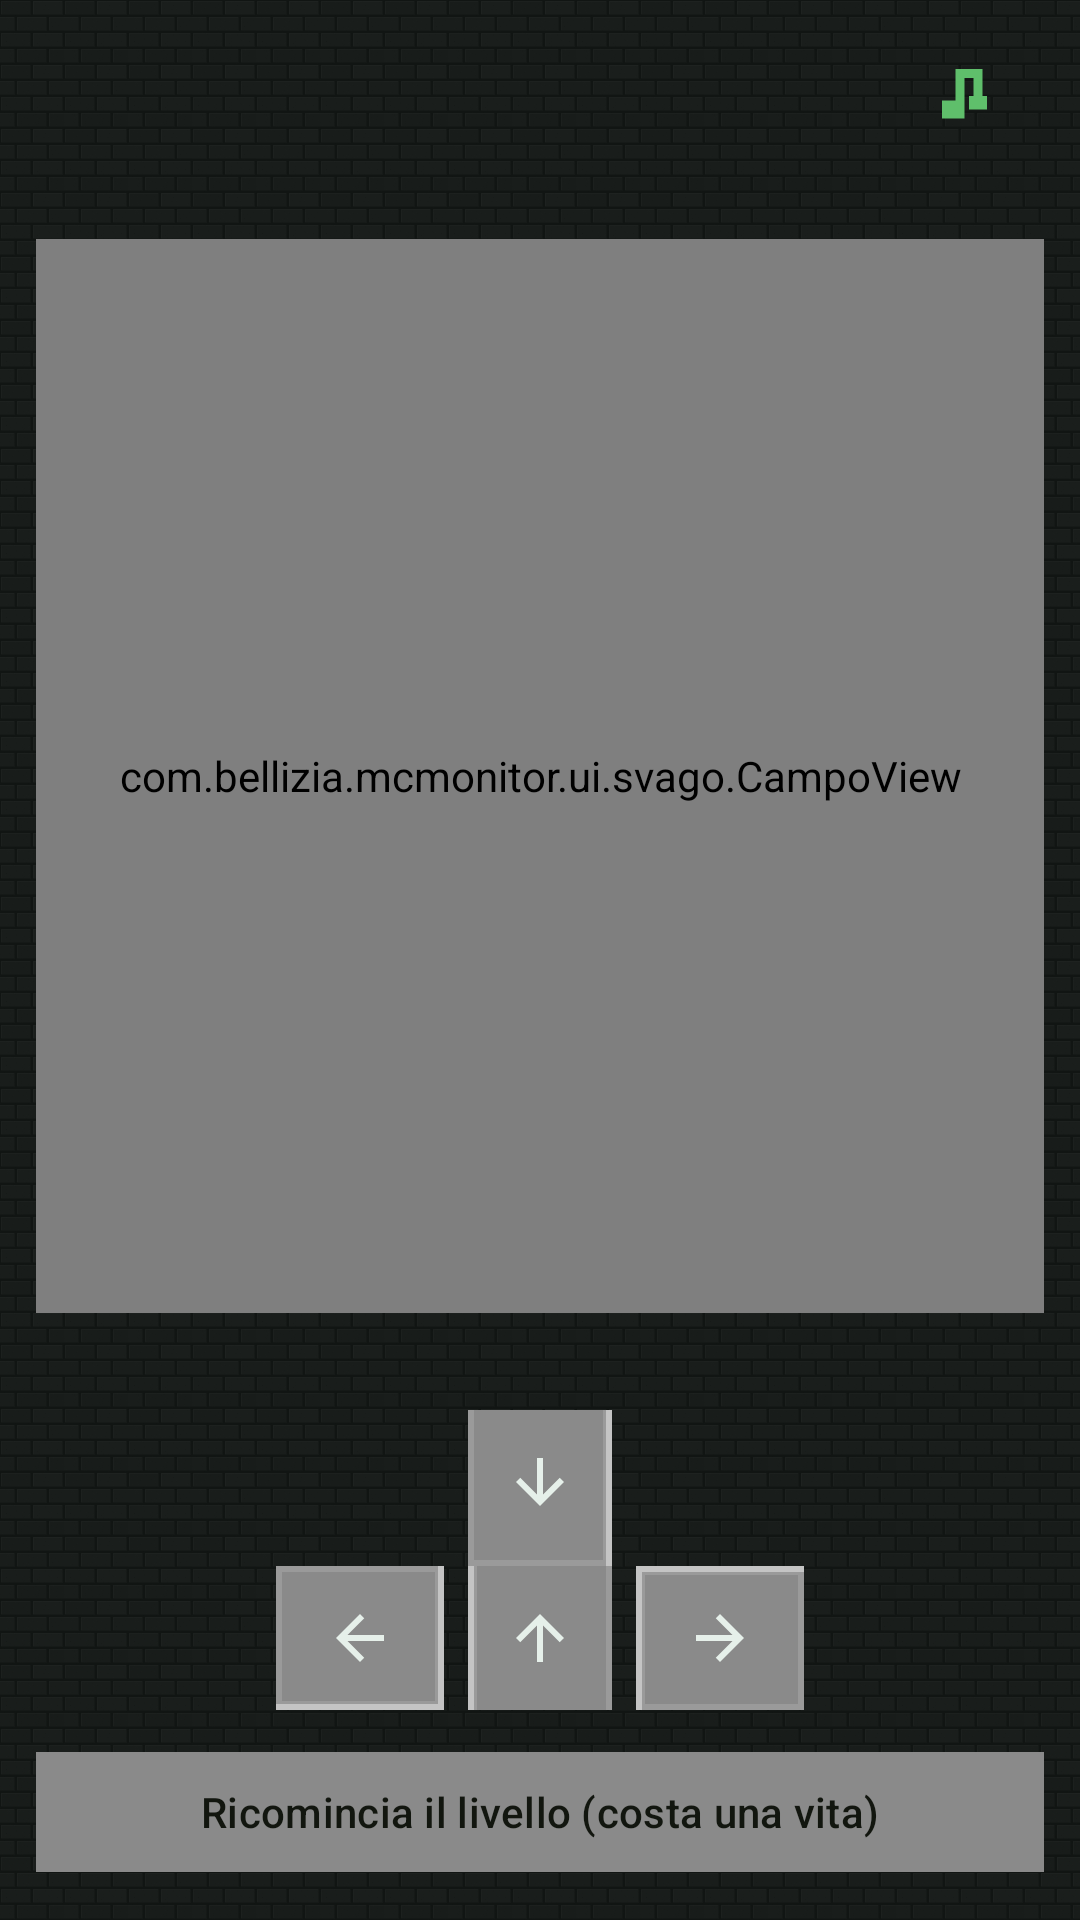

Where icons sit on this 1080*1920 app screen, as box(x1, y1, x2, y2):
Sinistra: box(276, 1566, 444, 1710)
Suoni: box(942, 69, 987, 119)
